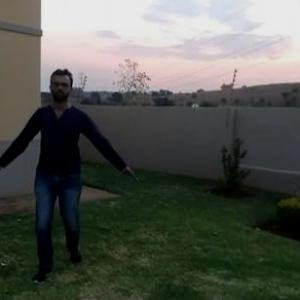land: (0, 68, 137, 265)
